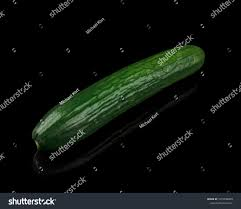cucumber: (32, 44, 206, 153)
